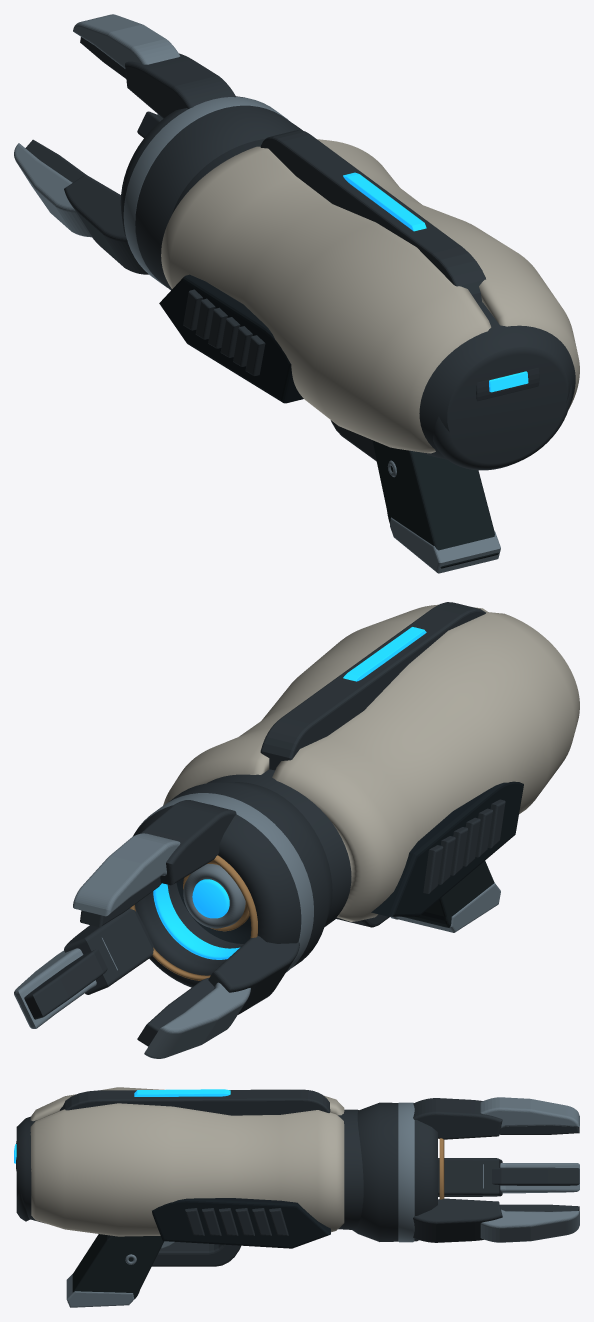
The model's file is portal-gun.glb.
3 views of the same model, one above another, from view 1: azimuth 30°, elevation 25°; view 2: azimuth 150°, elevation 25°; view 3: azimuth 270°, elevation 25° (orthographic). The views are drawn at different scales.
Parts seen in each view (by area): view 1: housing_and_grip_ceramic, housing_and_grip_chassis, emitter_cartridge_chassis, emitter_cartridge_titanium, housing_and_grip_grip, housing_and_grip_insulator, housing_and_grip_titanium, housing_and_grip_lit; view 2: housing_and_grip_ceramic, emitter_cartridge_chassis, emitter_cartridge_titanium, housing_and_grip_chassis, housing_and_grip_insulator, emitter_cartridge_lit, housing_and_grip_grip, emitter_cartridge_bronze, housing_and_grip_titanium, housing_and_grip_lit, emitter_cartridge_insulator; view 3: housing_and_grip_ceramic, emitter_cartridge_chassis, housing_and_grip_chassis, emitter_cartridge_titanium, housing_and_grip_insulator, housing_and_grip_grip, housing_and_grip_titanium, housing_and_grip_lit, emitter_cartridge_bronze.
Boxes of the visible parts, <box> form: housing_and_grip_ceramic: <box>161,139,579,453</box>; housing_and_grip_chassis: <box>172,130,575,470</box>; emitter_cartridge_chassis: <box>25,37,302,290</box>; emitter_cartridge_titanium: <box>14,14,288,287</box>; housing_and_grip_grip: <box>372,440,498,568</box>; housing_and_grip_insulator: <box>159,274,303,403</box>; housing_and_grip_titanium: <box>387,460,500,573</box>; housing_and_grip_lit: <box>343,172,528,392</box>; housing_and_grip_ceramic: <box>163,604,579,921</box>; emitter_cartridge_chassis: <box>24,782,332,1046</box>; emitter_cartridge_titanium: <box>14,793,313,1058</box>; housing_and_grip_chassis: <box>206,602,505,927</box>; housing_and_grip_insulator: <box>371,781,523,916</box>; emitter_cartridge_lit: <box>153,879,239,959</box>; housing_and_grip_grip: <box>402,861,494,927</box>; emitter_cartridge_bronze: <box>130,855,257,980</box>; housing_and_grip_titanium: <box>390,882,500,932</box>; housing_and_grip_lit: <box>343,627,426,681</box>; emitter_cartridge_insulator: <box>176,878,251,943</box>; housing_and_grip_ceramic: <box>30,1087,344,1236</box>; emitter_cartridge_chassis: <box>352,1098,579,1242</box>; housing_and_grip_chassis: <box>16,1089,363,1266</box>; emitter_cartridge_titanium: <box>398,1097,579,1242</box>; housing_and_grip_insulator: <box>152,1198,330,1248</box>; housing_and_grip_grip: <box>72,1234,163,1298</box>; housing_and_grip_titanium: <box>66,1241,175,1307</box>; housing_and_grip_lit: <box>14,1089,230,1163</box>; emitter_cartridge_bronze: <box>439,1138,444,1199</box>.
Size of the model in its own units: 0.212 by 0.2515 by 0.6236.
